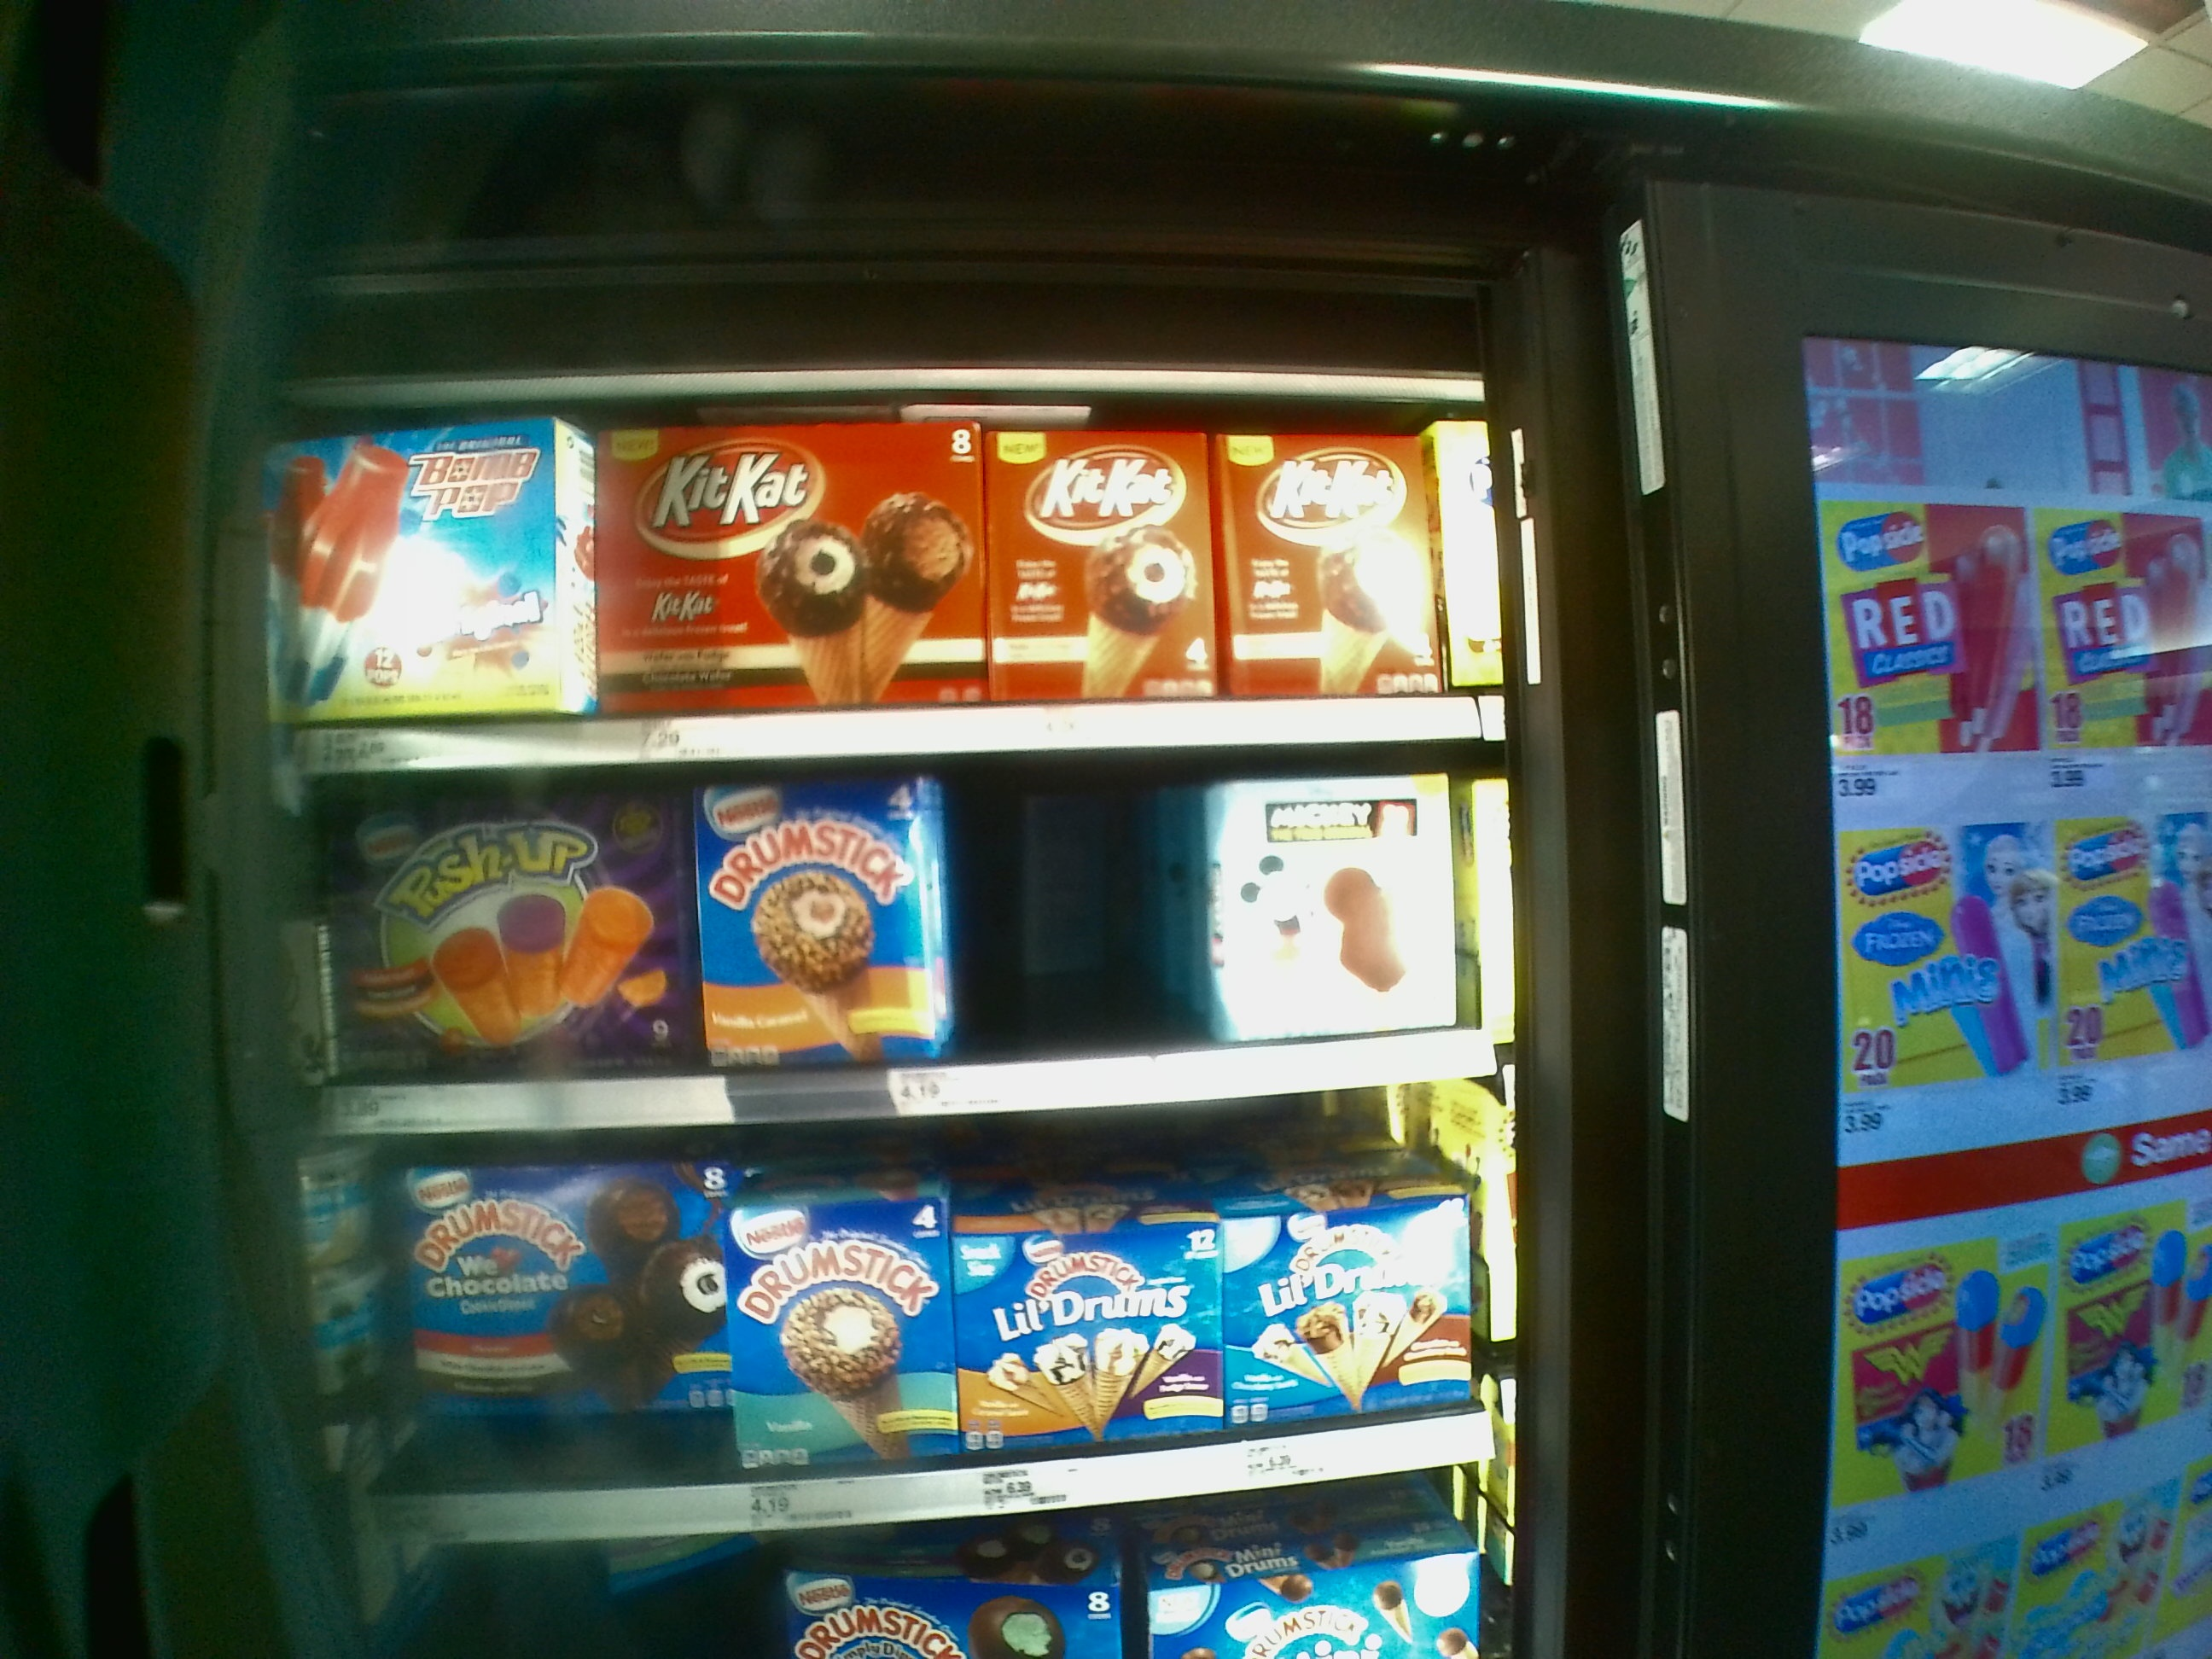shelf: (352, 1121, 1512, 1532), (282, 385, 1515, 751), (310, 751, 1503, 1124)
